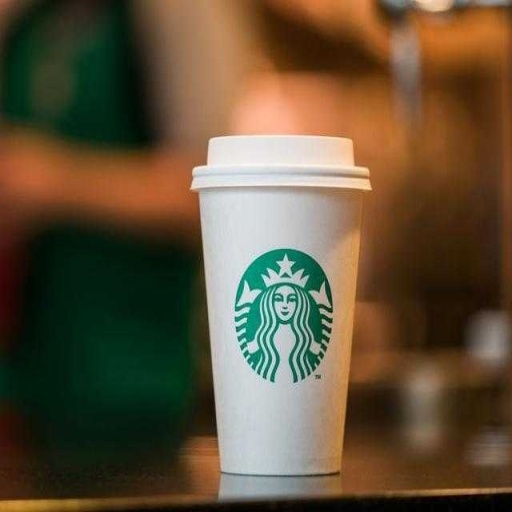cup: (189, 134, 373, 477)
